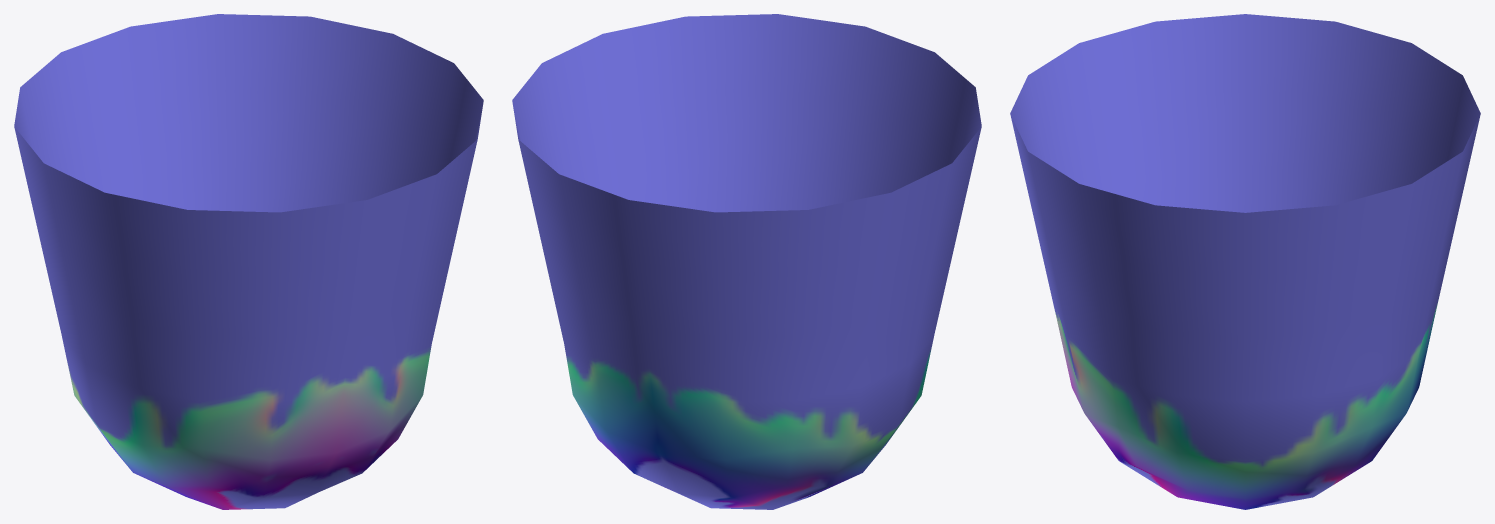
File: p_mesh_trashbot_vollybomb_trail01.fbx
3 views of the same model, side by side, from view 1: azimuth 30°, elevation 25°; view 2: azimuth 150°, elevation 25°; view 3: azimuth 270°, elevation 25° (orthographic).
Visible parts, largest first — view 1: qweqwe; view 2: qweqwe; view 3: qweqwe.
Boxes of the visible parts, left/top/right/bottom form: qweqwe: left=14, top=14, right=483, bottom=509; qweqwe: left=512, top=14, right=981, bottom=509; qweqwe: left=1010, top=14, right=1480, bottom=509.
Bounding box in the file's own units: 10.18 × 9.05 × 10.18.
